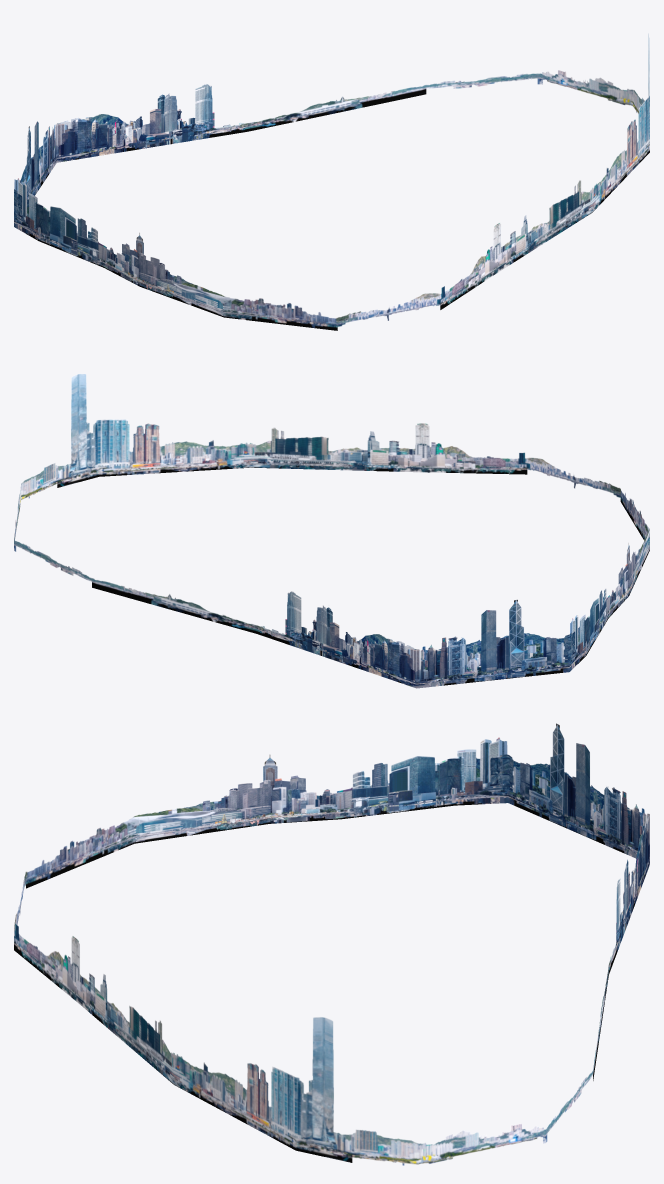
The model's file is backdrop.glb.
3 views of the same model, one above another, from view 1: azimuth 30°, elevation 25°; view 2: azimuth 150°, elevation 25°; view 3: azimuth 270°, elevation 25° (orthographic). The views are drawn at different scales.
Visible parts, largest first — view 1: backdrop; view 2: backdrop; view 3: backdrop.
Part boxes in pixels (x1,y1,x2,y2): backdrop: (14,33,649,330); backdrop: (14,374,649,688); backdrop: (14,723,649,1165).
Size of the model in its own units: 209 by 40.14 by 153.
Materials: 1 (1 with a texture image).
